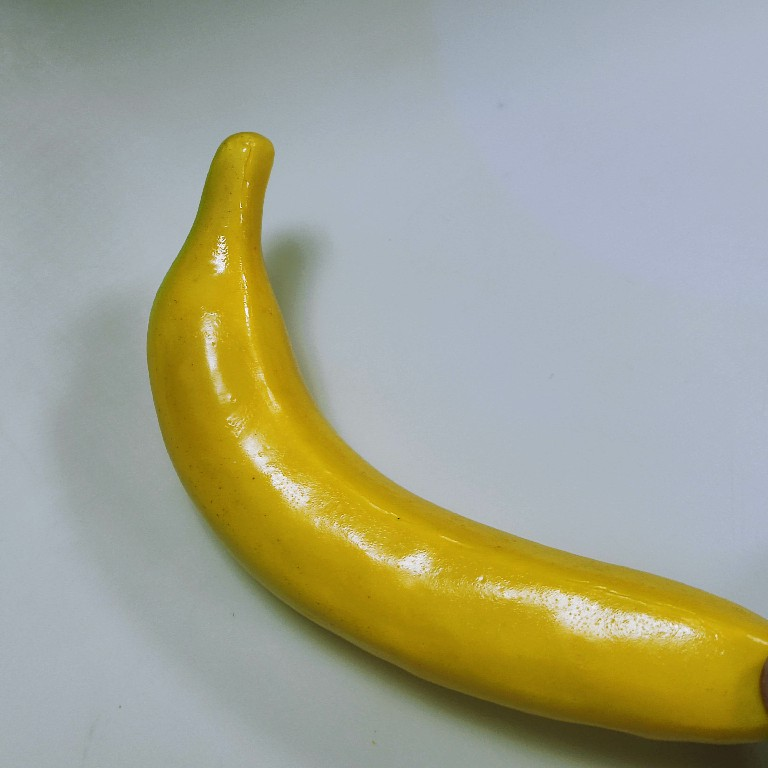fruit_banana: (143, 129, 768, 749)
